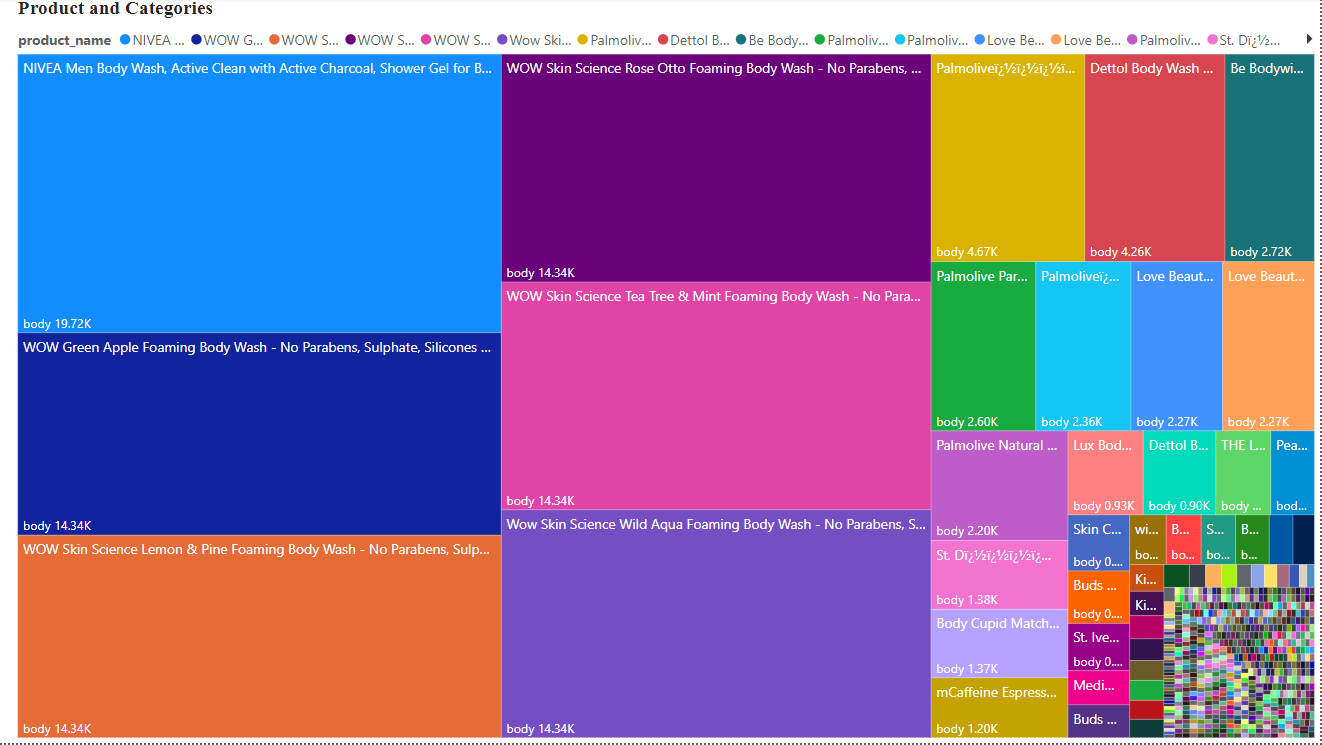

Layout of this report page (visuals, bound fields, positions):
{"tool":"powerbi","page":{"name":"Visualization2","canvas":[1280,720],"ordinal":1},"visuals":[{"type":"treemap","title":"Product and Categories","fields":{"Group":["ecommerce_cosmetic_dataset.product_name"],"Values":["Avg(ecommerce_cosmetic_dataset.rating)"],"Details":["ecommerce_cosmetic_dataset.category"]},"box":[18.5,0,1261.5,719.8],"z":0}]}

Visuals, with their boxes in screenshot pixels (x1, y1, x2, y2), scaled from the page's 1280x720 canvas onto the 1322x745 screenshot:
"Product and Categories" treemap: [19, 0, 1321, 744]
